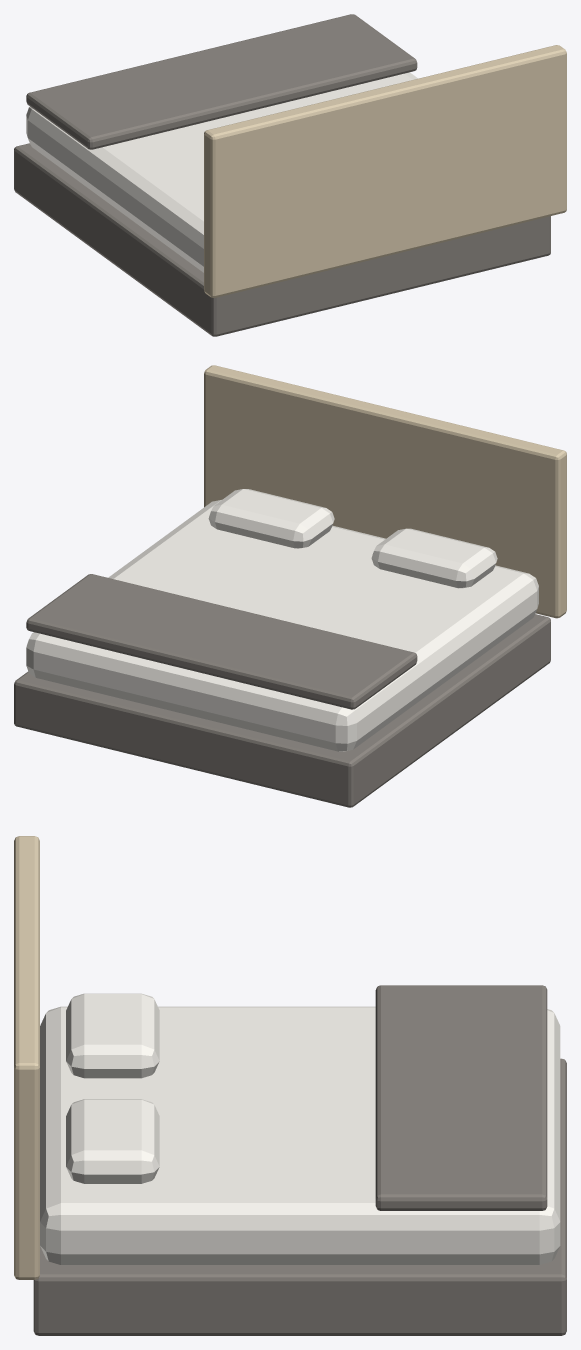
The model's file is bed.glb.
3 renders of one model, top to bottom at view 1: azimuth 30°, elevation 25°; view 2: azimuth 150°, elevation 25°; view 3: azimuth 270°, elevation 25°, orthographic. The views are drawn at different scales.
Visible parts, largest first — view 1: cabeceira, estrado, manta, colchao; view 2: colchao, cabeceira, estrado, manta, travesseiro, travesseiro.001; view 3: colchao, estrado, manta, cabeceira, travesseiro, travesseiro.001.
Boxes of the visible parts, x1,y1,x2,y2 form: cabeceira: (204, 45, 566, 297); estrado: (14, 143, 550, 336); manta: (26, 14, 417, 149); colchao: (26, 72, 417, 272); colchao: (26, 500, 538, 751); cabeceira: (204, 365, 566, 618); estrado: (14, 614, 550, 807); manta: (26, 574, 417, 709); travesseiro: (371, 528, 497, 588); travesseiro.001: (208, 489, 334, 548); colchao: (40, 1006, 560, 1264); estrado: (33, 1058, 566, 1335); manta: (375, 985, 547, 1210); cabeceira: (14, 836, 39, 1279); travesseiro: (66, 993, 159, 1078); travesseiro.001: (66, 1099, 159, 1183).
Bounding box in the file's own units: 2.1 × 1.18 × 2.12.
